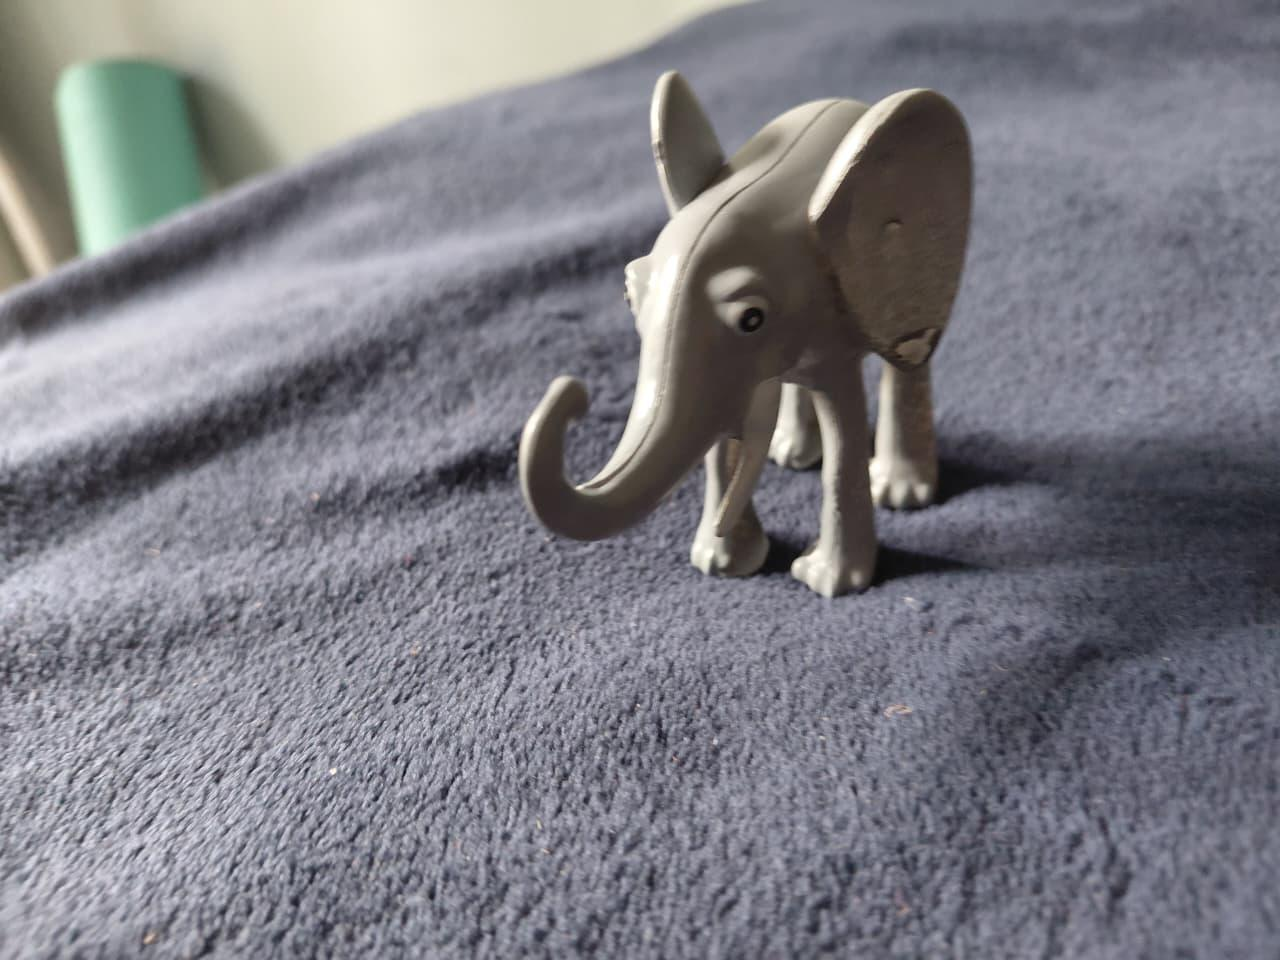elephant: (488, 52, 1026, 598)
